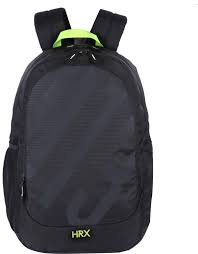backpack: (2, 7, 153, 253)
